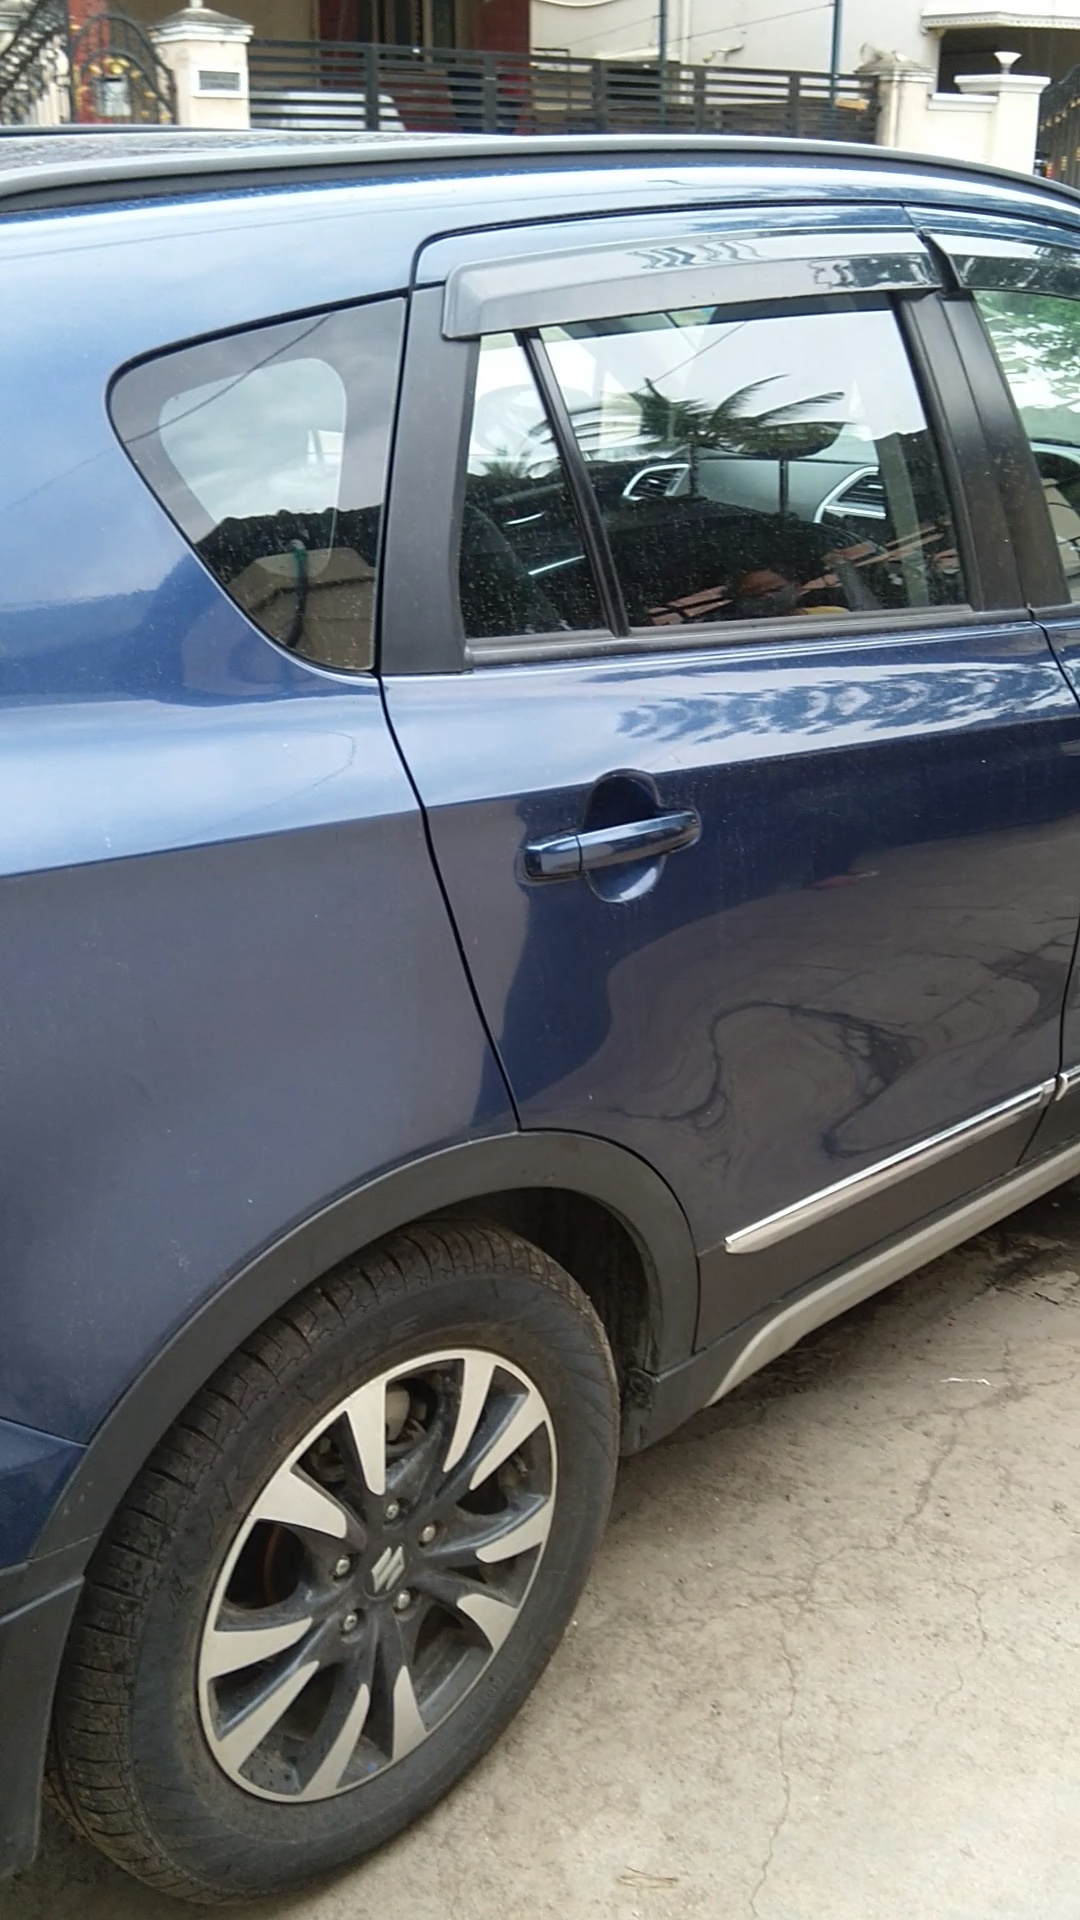alloy_wheel: (74, 1237, 618, 1920)
